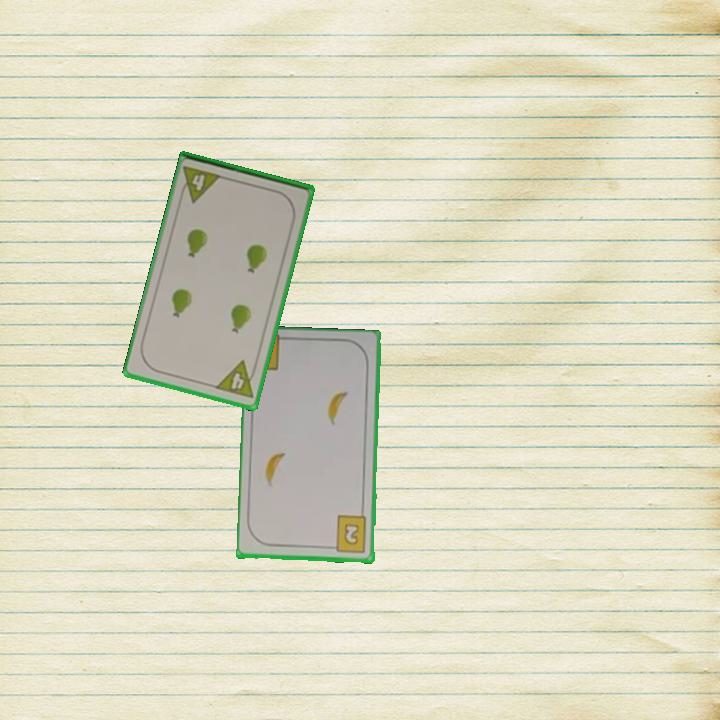2b: (327, 513, 370, 556)
4p: (212, 357, 260, 402), (176, 162, 225, 205)
